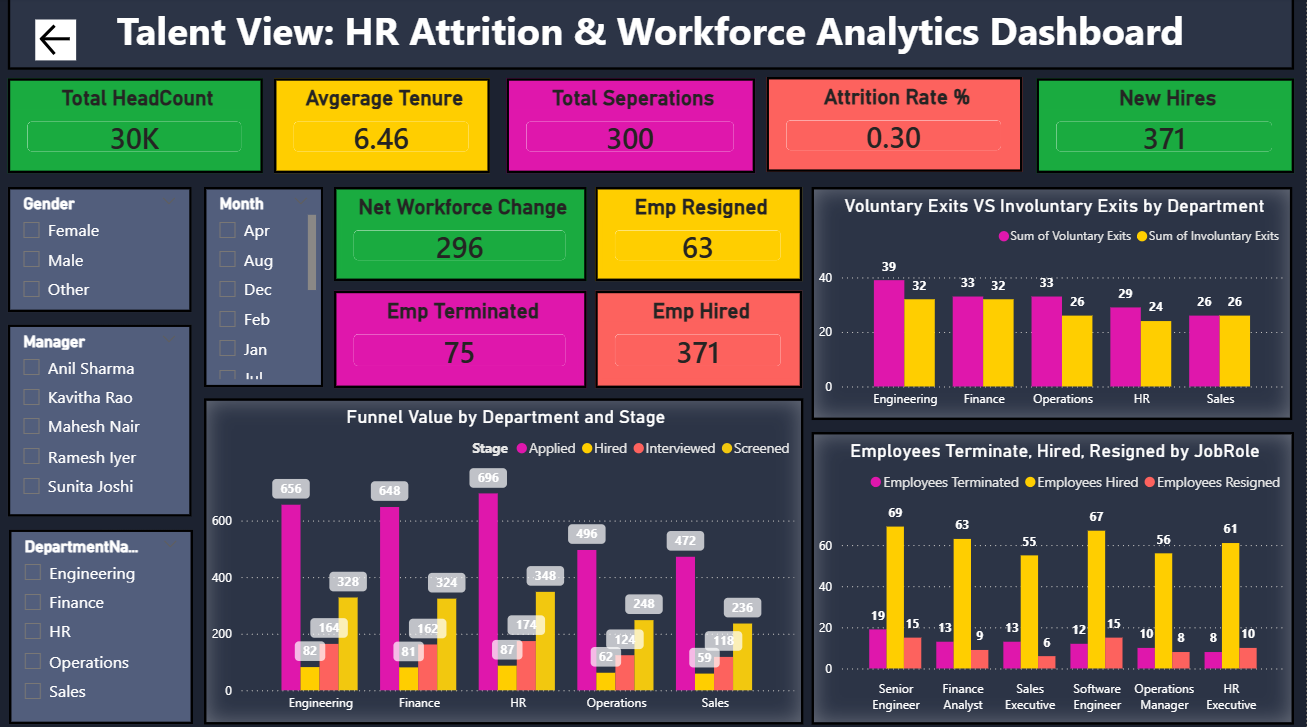

The dashboard page shown, as its layout file describes it:
{"tool":"powerbi","page":{"name":"My Analysis","canvas":[1280,720],"ordinal":4},"visuals":[{"type":"slicer","fields":{"Values":["dDemographics.Gender"]},"box":[8.6,185.9,179.8,122.3],"z":0},{"type":"slicer","fields":{"Values":["dEmployee.Manager"]},"box":[8.6,320.4,179.8,188.3],"z":1000},{"type":"slicer","fields":{"Values":["dDepartment.DepartmentName"]},"box":[9.8,520.9,179.8,190.8],"z":2000},{"type":"textbox","box":[8.6,0,1258.3,70.9],"z":3000},{"type":"cardVisual","title":"Total HeadCount","fields":{"Data":["fSeparations.Headcount121"]},"box":[8.6,79.5,249.5,92.9],"z":4000},{"type":"cardVisual","title":"Avgerage Tenure","fields":{"Data":["dEmployee.Avg Tenure"]},"box":[269,79.5,211.6,92.9],"z":5000},{"type":"cardVisual","title":"Total Seperations","fields":{"Data":["fSeparations.Separations111"]},"box":[496.5,79.5,243.3,92.9],"z":6000},{"type":"cardVisual","title":"Attrition Rate %","fields":{"Data":["fSeparations.Attrition Rate % (Rolling 12M)"]},"box":[750.8,78.3,250.7,92.9],"z":7000},{"type":"cardVisual","title":"New Hires","fields":{"Data":["Hiring Funnel Stages.New Hires"]},"box":[1015,79.5,251.9,92.9],"z":8000},{"type":"lineClusteredColumnComboChart","fields":{"Category":["dEmployee.Department"],"Series":["Hiring Funnel Stages.Stage"],"Y":["Hiring Funnel Stages.Funnel Value"]},"box":[200.1,392.5,586.3,319.4],"z":9000},{"type":"clusteredColumnChart","title":"Employees Terminate, Hired, Resigned by JobRole","fields":{"Y":["dEmployee.Employees Terminated","dEmployee.Employees Hired","dEmployee.Employees Resigned"],"Category":["dEmployee.JobRole"]},"box":[795.4,425.9,472.1,286.1],"z":10000},{"type":"slicer","fields":{"Values":["Calendar.Month"]},"box":[200.1,186,116.7,196.3],"z":11000},{"type":"clusteredColumnChart","title":"Voluntary Exits VS Involuntary Exits by Department","fields":{"Y":["Sum(fSeparations.Voluntary Exits)","Sum(fSeparations.Involuntary Exits)"],"Category":["dEmployee.Department"]},"box":[795.4,186,470.8,228.3],"z":12000},{"type":"cardVisual","title":"Net Workforce Change","fields":{"Data":["dEmployee.Net Workforce Change"]},"box":[327.1,186,247.6,92.4],"z":13000},{"type":"cardVisual","title":"Emp Resigned","fields":{"Data":["dEmployee.Employees Resigned"]},"box":[583.7,186,202.7,92.4],"z":14000},{"type":"cardVisual","title":"Emp Terminated","fields":{"Data":["dEmployee.Employees Terminated"]},"box":[327.1,287.4,247.6,94.9],"z":15000},{"type":"cardVisual","title":"Emp Hired","fields":{"Data":["dEmployee.Employees Hired"]},"box":[583.7,287.4,202.7,94.9],"z":16000},{"type":"actionButton","box":[35.9,21.8,39.8,39.8],"z":17000}]}

Visuals, with their boxes in screenshot pixels (x1, y1, x2, y2), scaled from the page's 1280x720 canvas onto the 1307x727 screenshot:
slicer - dDemographics.Gender: Rect(9, 188, 192, 311)
slicer - dEmployee.Manager: Rect(9, 324, 192, 514)
slicer - dDepartment.DepartmentName: Rect(10, 526, 194, 719)
textbox: Rect(9, 0, 1294, 72)
"Total HeadCount" cardVisual: Rect(9, 80, 264, 174)
"Avgerage Tenure" cardVisual: Rect(275, 80, 491, 174)
"Total Seperations" cardVisual: Rect(507, 80, 755, 174)
"Attrition Rate %" cardVisual: Rect(767, 79, 1023, 173)
"New Hires" cardVisual: Rect(1036, 80, 1294, 174)
lineClusteredColumnComboChart - dEmployee.Department x Hiring Funnel Stages.Stage: Rect(204, 396, 803, 719)
"Employees Terminate, Hired, Resigned by JobRole" clusteredColumnChart: Rect(812, 430, 1294, 719)
slicer - Calendar.Month: Rect(204, 188, 323, 386)
"Voluntary Exits VS Involuntary Exits by Department" clusteredColumnChart: Rect(812, 188, 1293, 418)
"Net Workforce Change" cardVisual: Rect(334, 188, 587, 281)
"Emp Resigned" cardVisual: Rect(596, 188, 803, 281)
"Emp Terminated" cardVisual: Rect(334, 290, 587, 386)
"Emp Hired" cardVisual: Rect(596, 290, 803, 386)
actionButton: Rect(37, 22, 77, 62)
